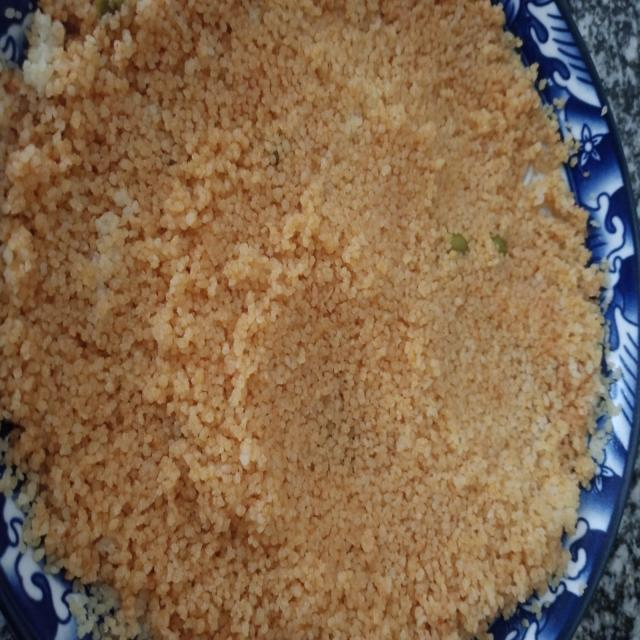Couscous: (17, 22, 610, 624)
